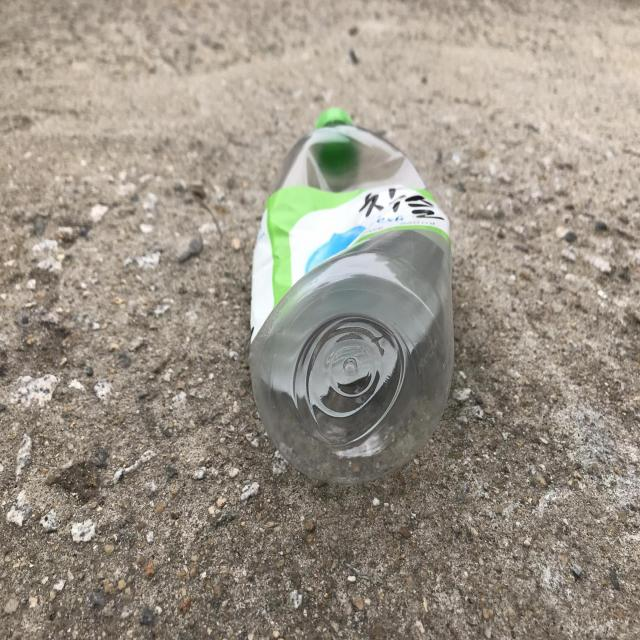plastic: (250, 108, 454, 484)
